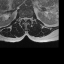CCS_normal: (24, 15, 26, 23)
LFS_stenosis: (28, 15, 30, 21)
LLS_normal: (26, 15, 28, 21)
RFS_normal: (21, 15, 23, 21)
RLS_normal: (23, 16, 24, 22)
